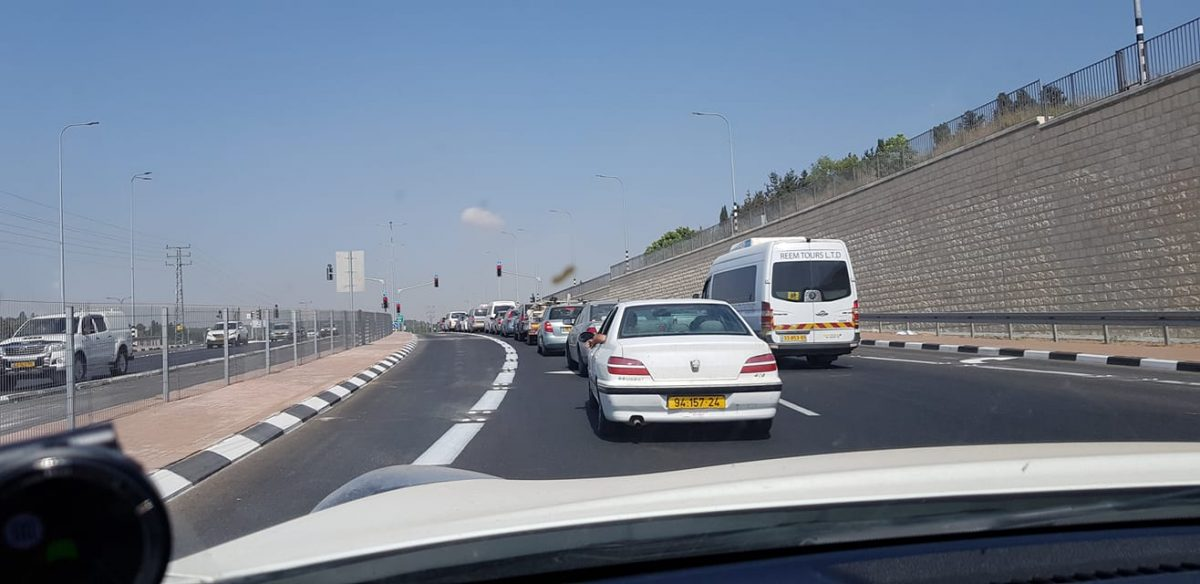licence: (661, 391, 729, 409)
